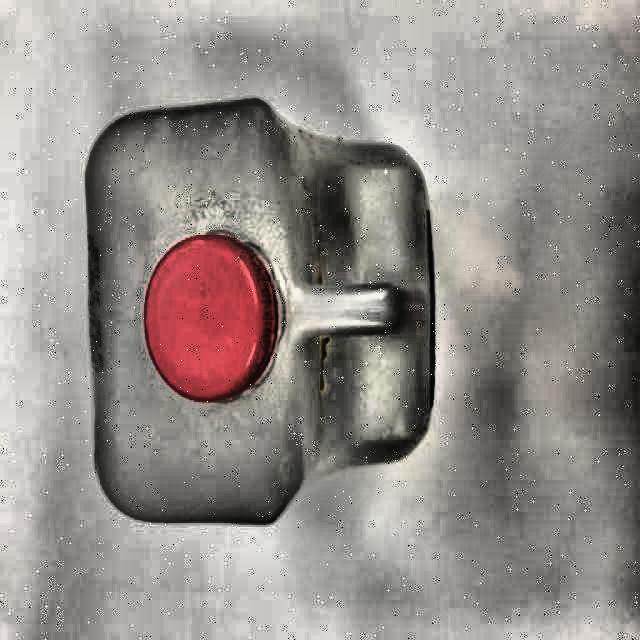plastic: (85, 98, 435, 524)
